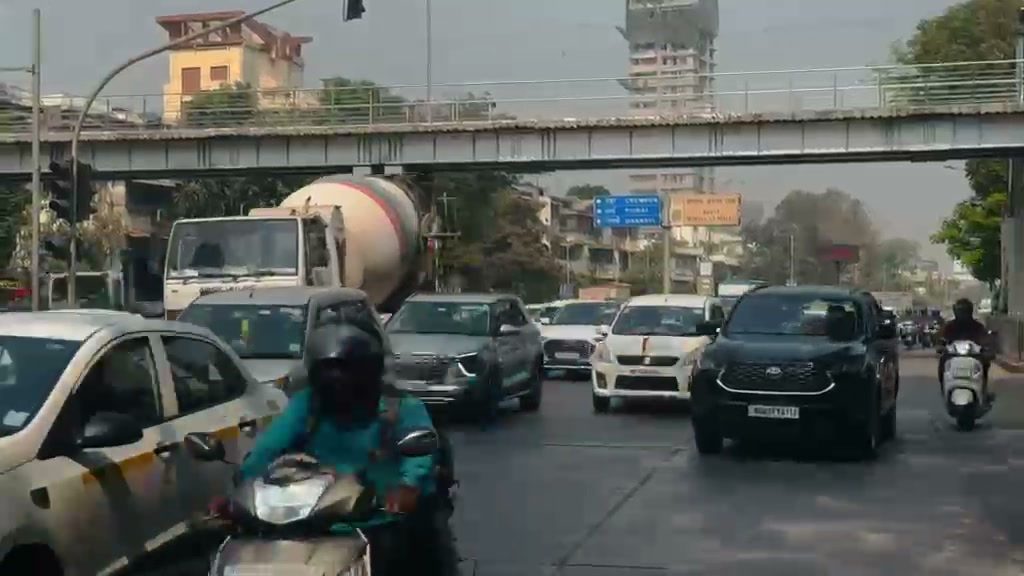car: (1, 311, 289, 570), (688, 285, 902, 460), (176, 284, 390, 400), (382, 292, 546, 423), (0, 307, 144, 436), (589, 293, 729, 413), (532, 300, 621, 379)
motorcycle: (95, 424, 425, 571), (936, 338, 998, 431)
pedestrian: (235, 315, 456, 571), (236, 319, 424, 497), (935, 297, 1001, 396)
truck: (161, 173, 435, 320)
